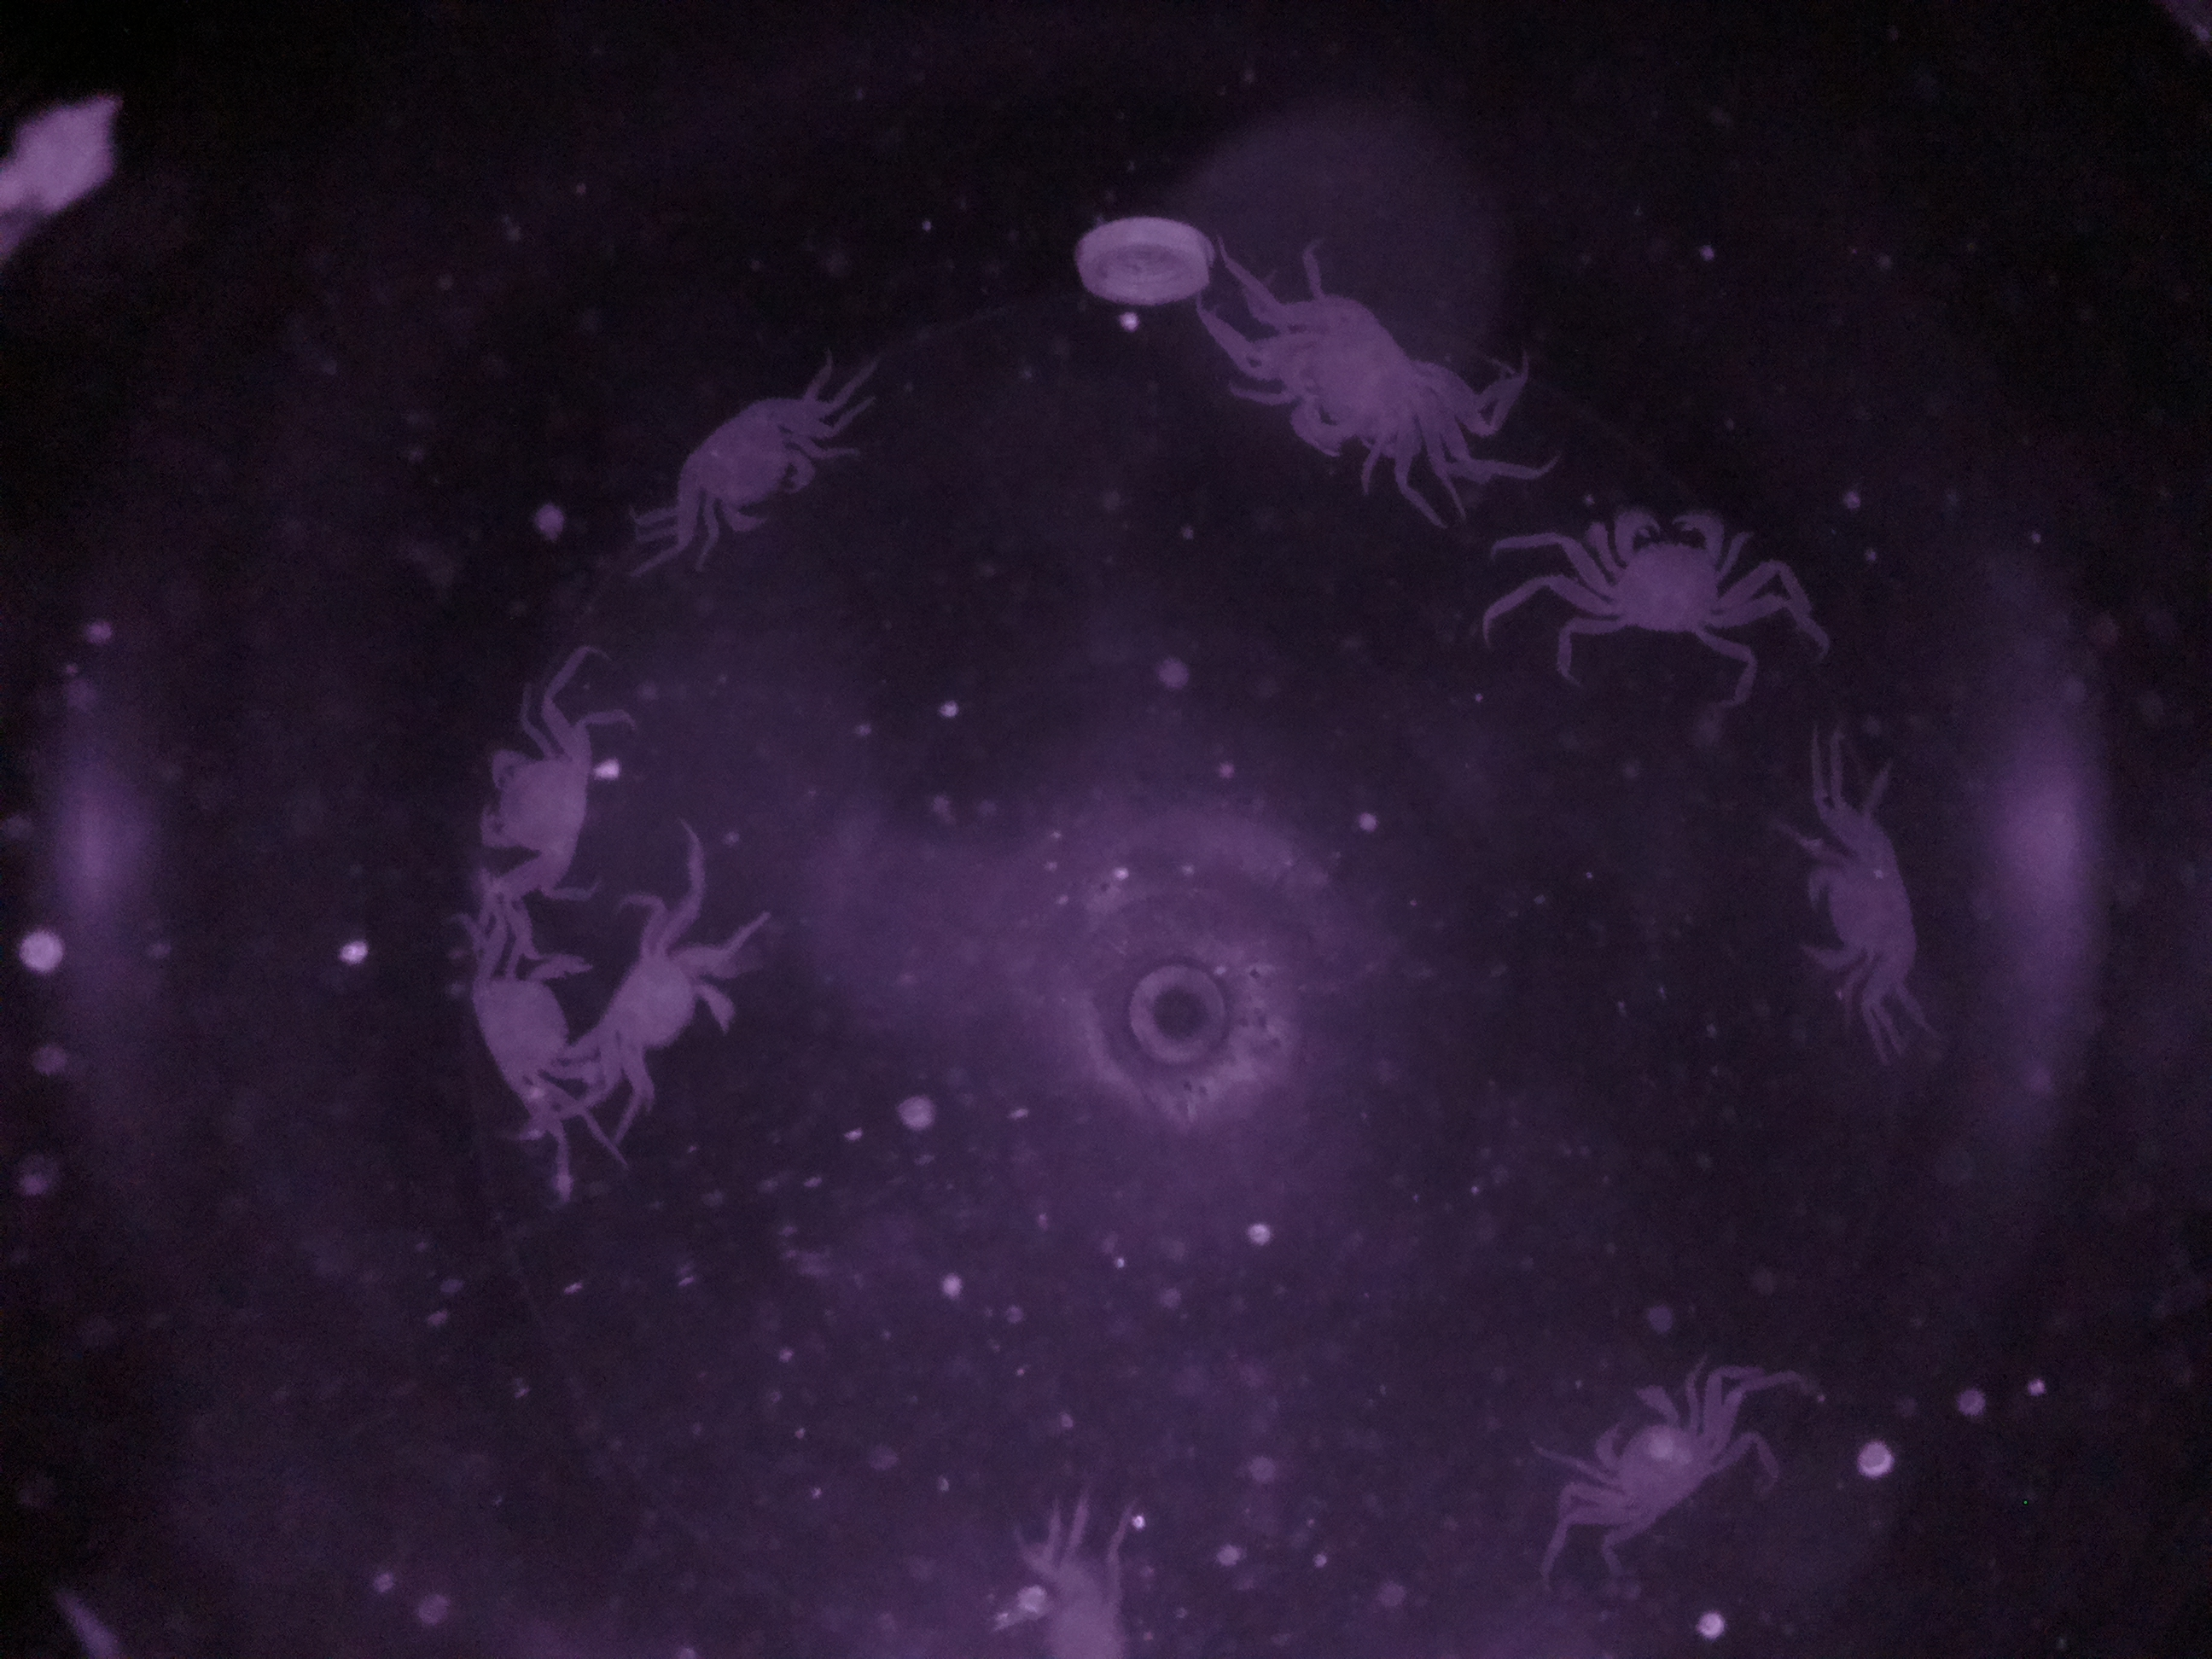Crab: (1552, 486, 1761, 650), (1557, 1356, 1731, 1549), (1787, 823, 1949, 1026), (660, 385, 834, 554), (463, 702, 610, 887)
